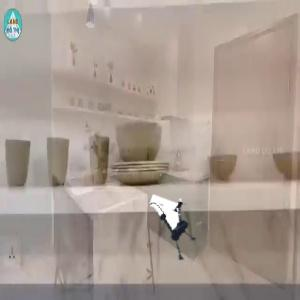drone: (142, 199, 213, 270)
